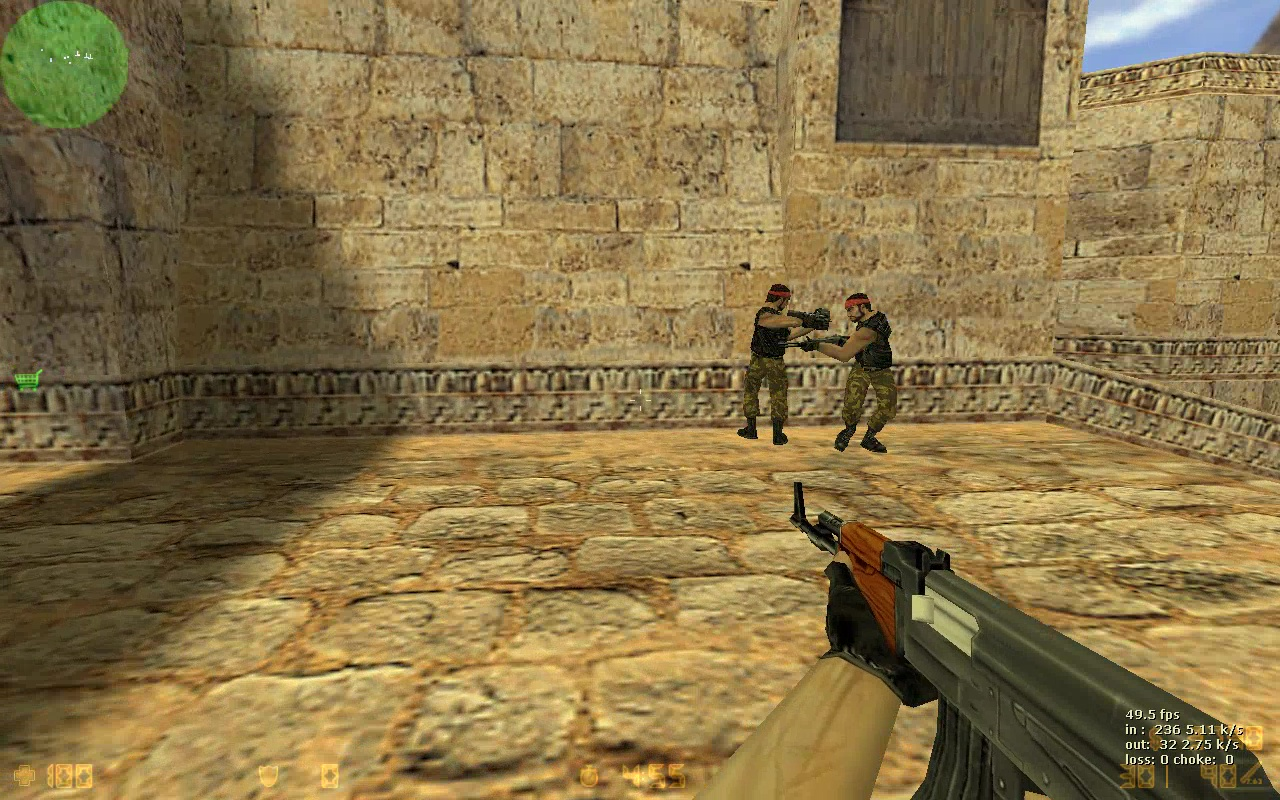terr1: (727, 286, 831, 444), (813, 288, 898, 455)
